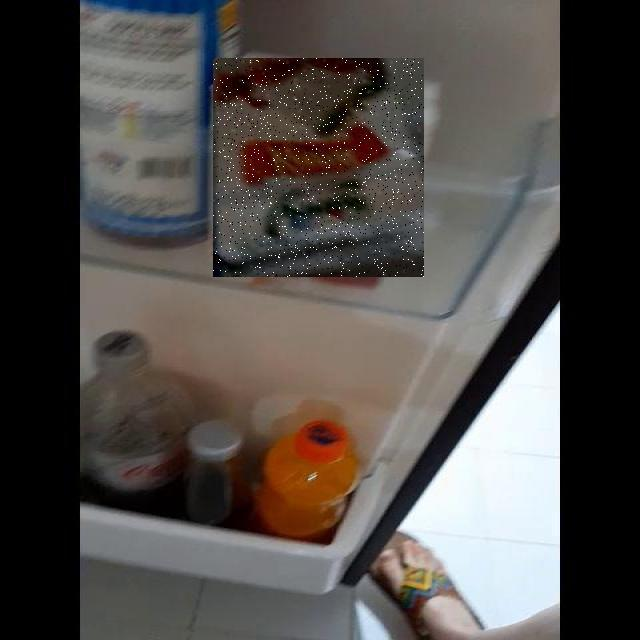cheese: (1, 138, 425, 416)
